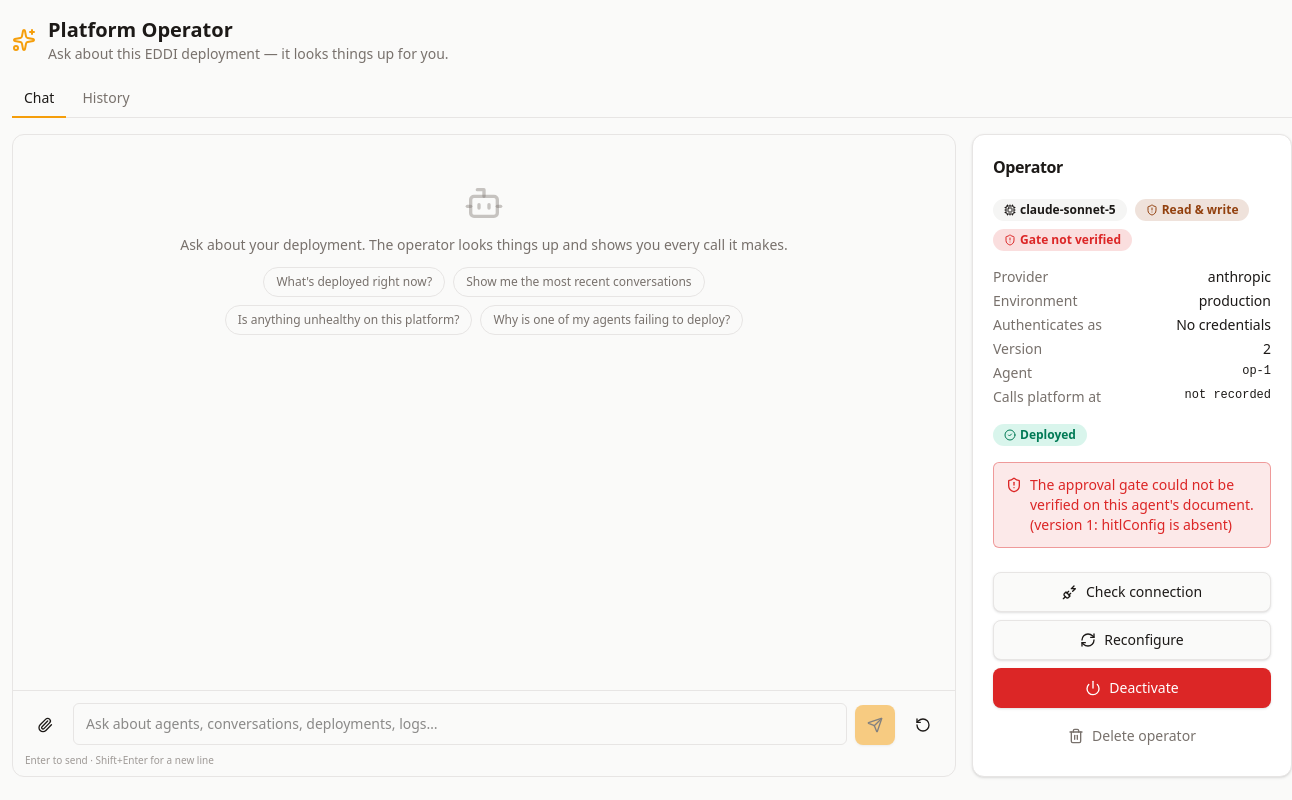
OperatorPage › when a turn pauses on a gated tool call › shows the pause reason and timeout, which only approval-status carries
In the text box with test id "operator-input": (460, 724) [73,703,847,745], type "create an agent"
Then press Enter
(page scrolled)
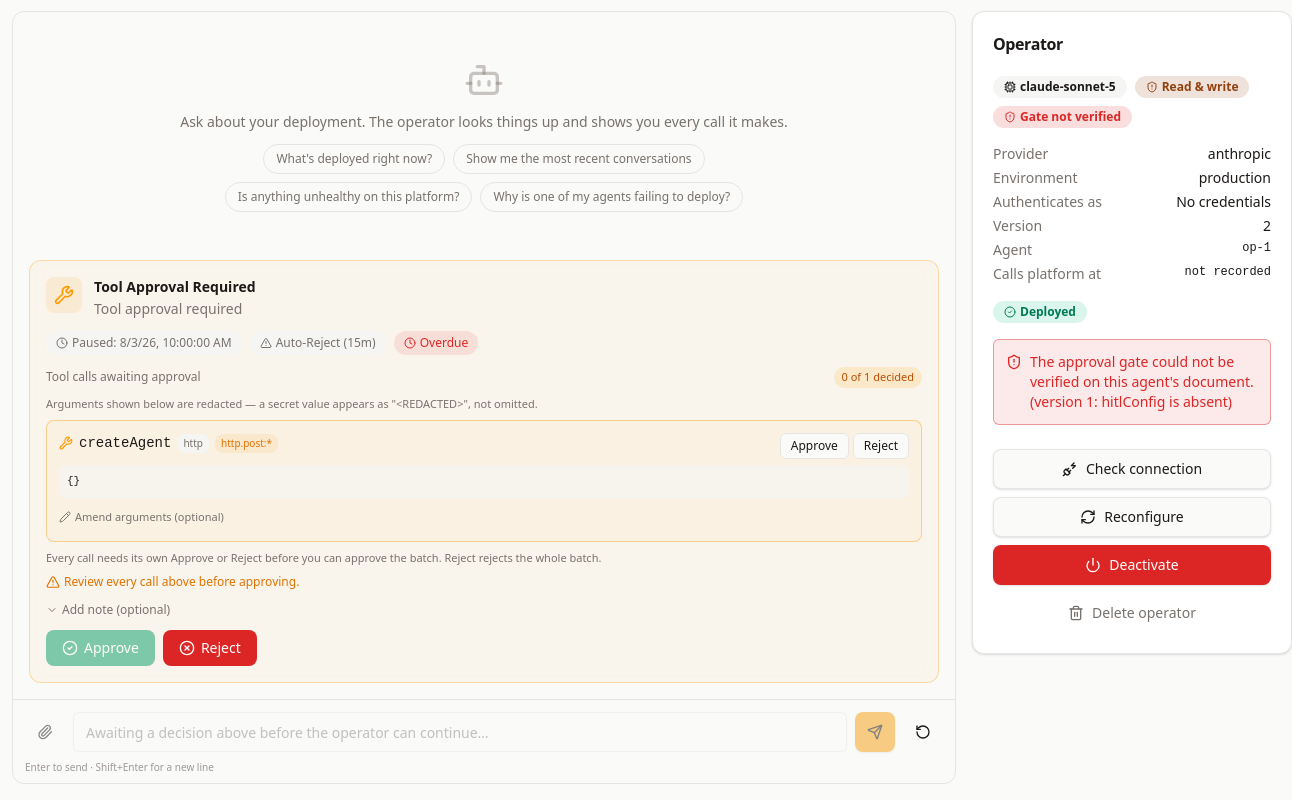
Now the element with test id "approval-banner" shows "Tool Approval Required", box [94,277,256,296]
